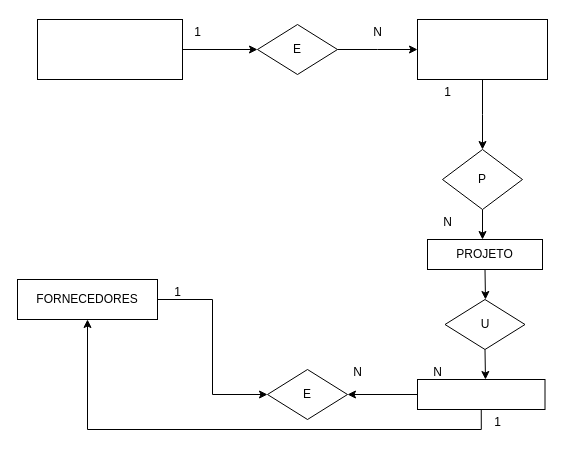
This 565x455 diagram has some shape labels left out. Here are the shapes that lost their labels. From the top down, the box of each, then its label:
(36, 18, 182, 80): DEPARTAMENTO
(416, 18, 548, 80): FUNCIONÁRIO
(416, 378, 545, 410): PEÇAS
